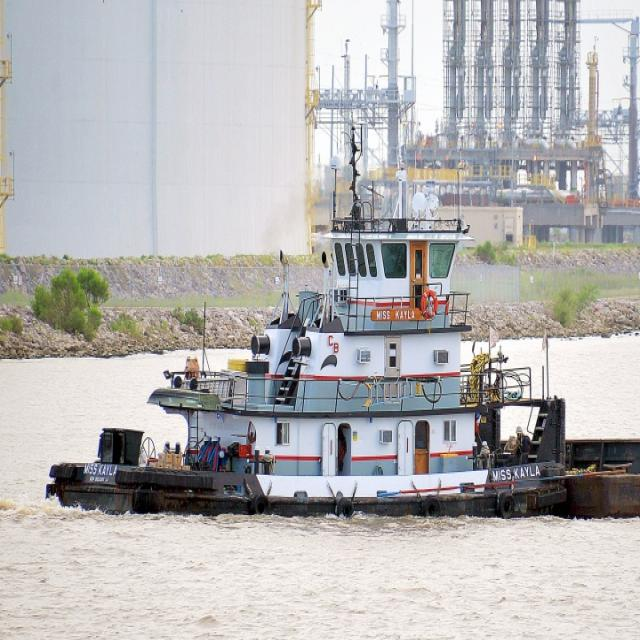tugboat: (45, 118, 570, 534)
